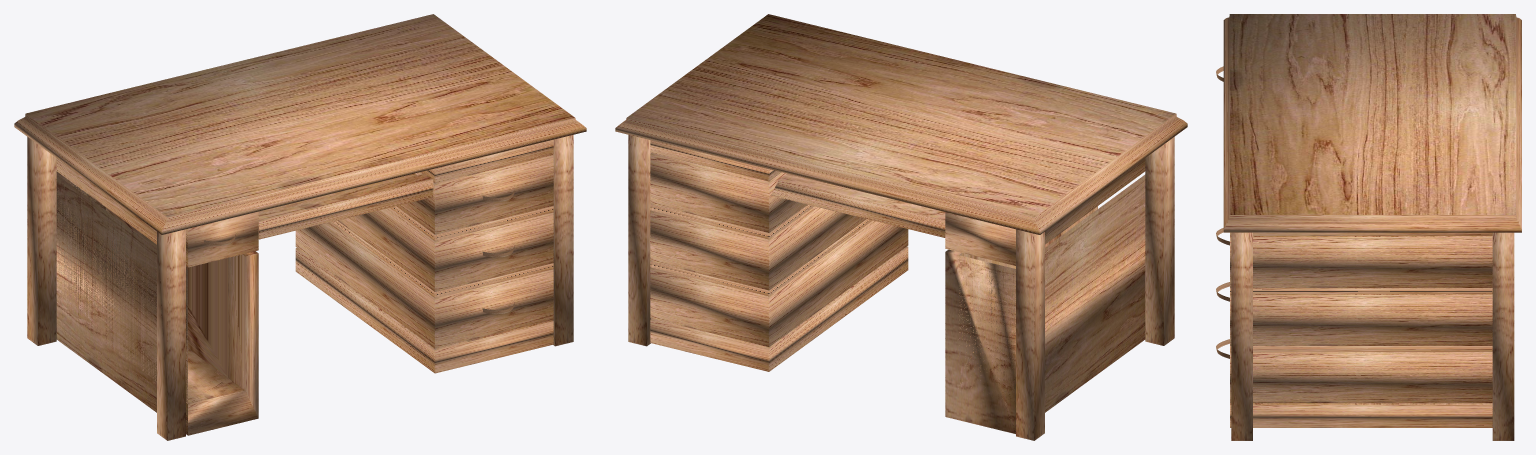
The model's file is Computer Table.fbx.
The picture shows the model from 3 angles, left to right: view 1: azimuth 30°, elevation 25°; view 2: azimuth 150°, elevation 25°; view 3: azimuth 270°, elevation 25°; orthographic projection.
Visible parts, largest first — view 1: Cube, Cube.11, Cube.3, Stand 2, Cube.2, Cube.1, Cube.5, Stand 1, Cube.9, Cube.10, Cube.4, Cube.8 (+1 smaller); view 2: Cube, Cube.11, Cube.3, Stand 1, Cube.2, Cube.1, Cube.5, Stand 2, Cube.9, Cube.10, Cube.4, Cube.8 (+1 smaller); view 3: Cube, Cube.2, Cube.1, Cube.3, Cube.5, Stand 1, Stand 2, Cube.7, Cube.8, Cube.4.
Part boxes in pixels (x1,y1,x2,y2): Cube: [14, 14, 586, 234]; Cube.11: [56, 171, 258, 435]; Cube.3: [295, 222, 553, 348]; Stand 2: [157, 135, 573, 440]; Cube.2: [337, 208, 553, 291]; Cube.1: [396, 154, 553, 234]; Cube.5: [295, 248, 553, 373]; Stand 1: [27, 137, 56, 345]; Cube.9: [258, 173, 433, 239]; Cube.10: [56, 158, 258, 267]; Cube.4: [420, 139, 553, 182]; Cube.8: [331, 220, 553, 297]; Cube: [615, 14, 1187, 234]; Cube.11: [945, 174, 1145, 433]; Cube.3: [650, 220, 908, 346]; Stand 1: [628, 135, 1044, 440]; Cube.2: [650, 206, 866, 290]; Cube.1: [650, 153, 807, 232]; Cube.5: [650, 246, 908, 371]; Stand 2: [1145, 137, 1174, 345]; Cube.9: [771, 173, 945, 237]; Cube.10: [945, 158, 1145, 265]; Cube.4: [650, 140, 781, 181]; Cube.8: [650, 219, 872, 296]; Cube: [1223, 14, 1521, 232]; Cube.2: [1230, 294, 1492, 345]; Cube.1: [1230, 236, 1492, 287]; Cube.3: [1230, 352, 1492, 403]; Cube.5: [1230, 403, 1492, 427]; Stand 1: [1492, 232, 1514, 440]; Stand 2: [1231, 232, 1252, 440]; Cube.7: [1230, 288, 1492, 294]; Cube.8: [1230, 346, 1492, 351]; Cube.4: [1230, 232, 1492, 235].
Size of the model in its own units: 458 by 231 by 283.
1 material, 1 textured.
